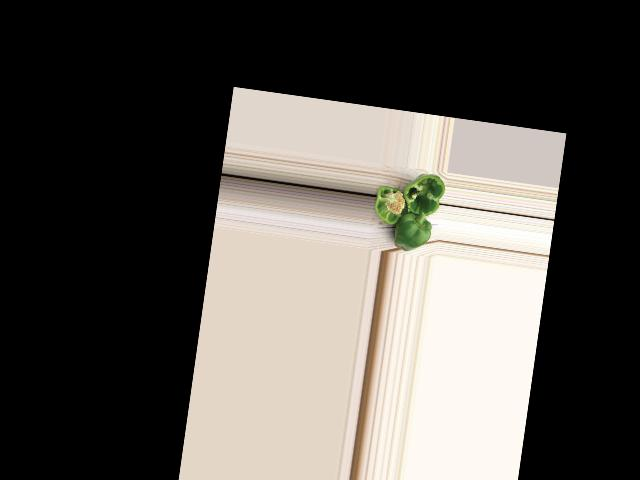bell_pepper: (372, 177, 411, 229)
